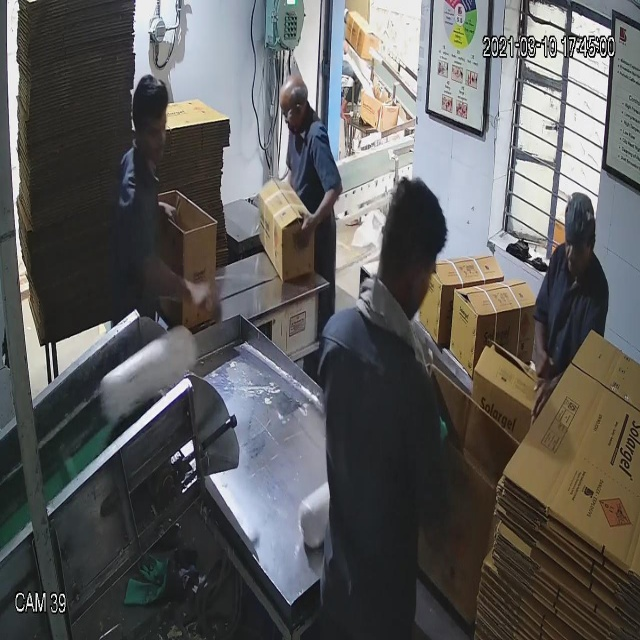Sin_guantes: (134, 236, 219, 331), (289, 180, 345, 255), (526, 317, 555, 385)
